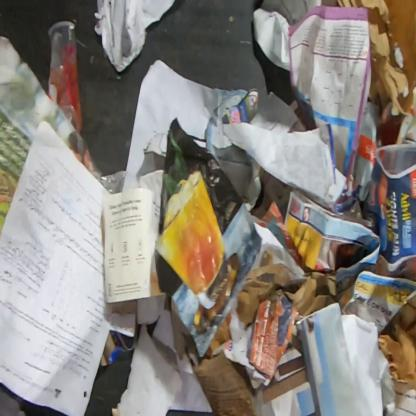cardboard: (335, 0, 415, 127), (236, 248, 294, 326), (192, 349, 258, 416), (377, 291, 415, 392), (262, 346, 309, 403), (282, 271, 338, 318), (204, 311, 232, 358), (100, 330, 124, 366)
metal: (96, 170, 126, 194)
rigid_plastic: (46, 20, 84, 139), (353, 101, 380, 189)
